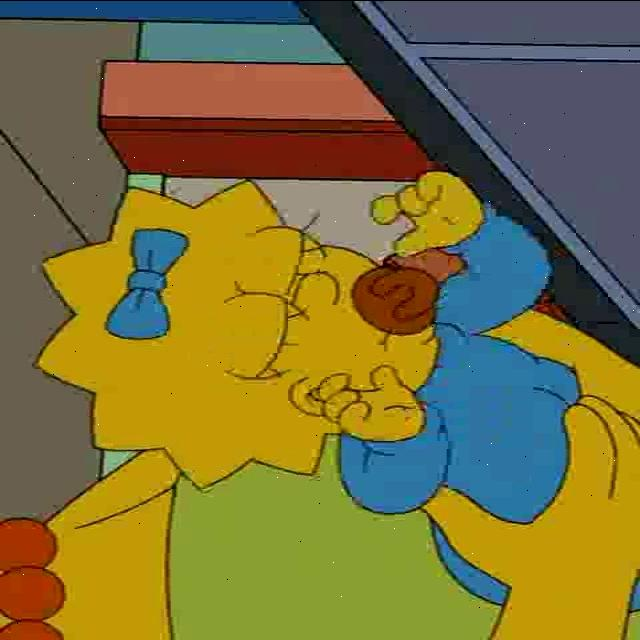Maggie Simpson: (30, 178, 448, 490)
